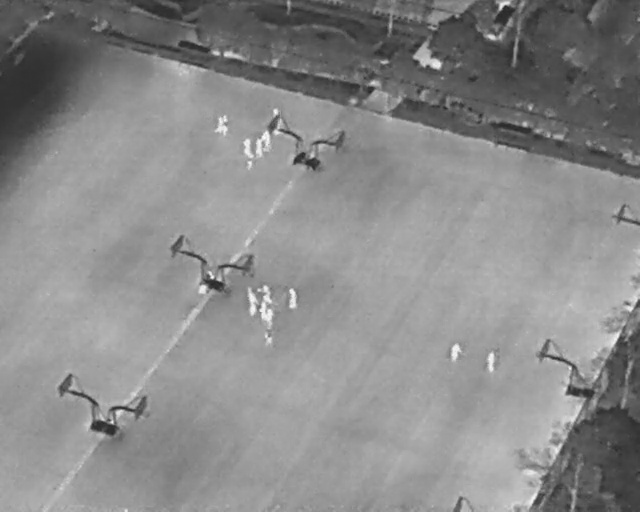Person: (247, 288, 259, 318), (258, 282, 273, 304), (270, 107, 282, 133), (449, 342, 462, 363), (484, 349, 496, 371), (242, 139, 254, 158), (220, 114, 229, 139), (261, 130, 271, 152), (211, 116, 223, 133), (289, 289, 298, 310), (258, 304, 268, 322), (264, 309, 274, 327), (254, 137, 263, 156), (197, 282, 208, 295), (264, 333, 273, 345), (207, 269, 216, 280)
